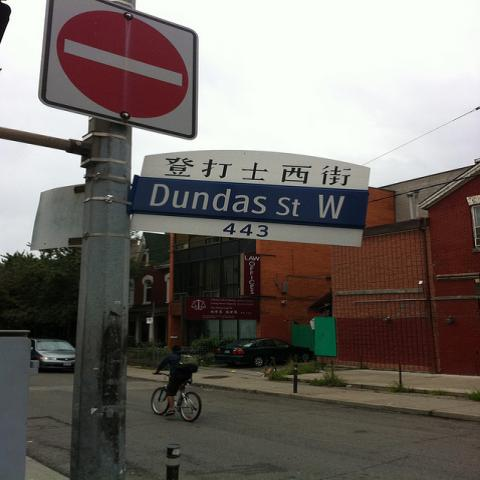car: (213, 337, 315, 368), (32, 338, 74, 373)
